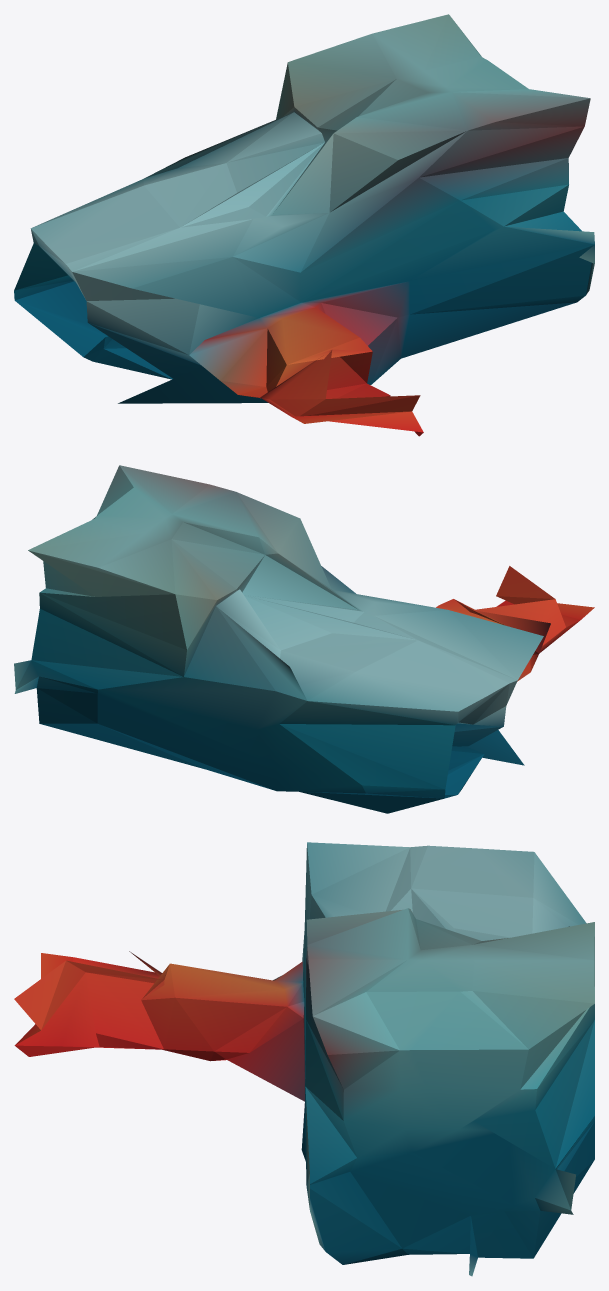
3 views of the same model, one above another, from view 1: azimuth 30°, elevation 25°; view 2: azimuth 150°, elevation 25°; view 3: azimuth 270°, elevation 25° (orthographic). The views are drawn at different scales.
Size of the model in its own units: 2.58 by 1.2 by 2.32.
